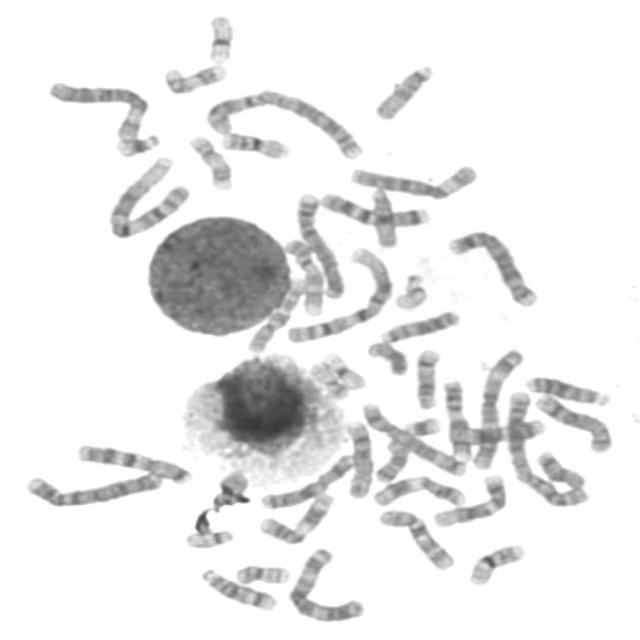A1: (280, 240, 396, 345), (101, 152, 193, 240)
A2: (199, 84, 368, 160), (501, 386, 592, 509)
A3: (467, 343, 528, 472), (283, 543, 367, 623)
B4: (18, 465, 167, 509), (291, 188, 348, 300)
B5: (356, 398, 470, 478), (443, 226, 541, 309)
C10: (373, 505, 457, 573), (243, 274, 310, 354)
C11: (252, 488, 336, 546), (366, 472, 469, 509)
C12: (426, 469, 508, 528), (460, 416, 550, 451)
C6: (41, 75, 150, 144), (346, 158, 481, 201)
C7: (71, 439, 194, 486), (314, 187, 432, 228)
C8: (531, 390, 616, 454), (340, 417, 375, 499)
C9: (279, 234, 327, 316), (438, 374, 474, 462)
D13: (520, 370, 612, 408), (375, 305, 462, 345)
D14: (196, 564, 280, 612), (409, 344, 443, 410)
D15: (369, 60, 437, 122), (365, 183, 400, 249)
E16: (463, 539, 528, 588), (216, 127, 292, 161)
E17: (184, 131, 235, 192), (158, 59, 230, 95)
E18: (532, 446, 587, 492), (370, 436, 412, 483)
F19: (317, 348, 367, 391), (201, 9, 237, 66)
F20: (298, 360, 349, 401), (231, 560, 291, 586)
G21: (109, 128, 162, 158), (399, 413, 443, 438)
G22: (389, 268, 430, 312), (179, 525, 236, 550)
X: (255, 450, 358, 512)
Y: (362, 338, 410, 378)
